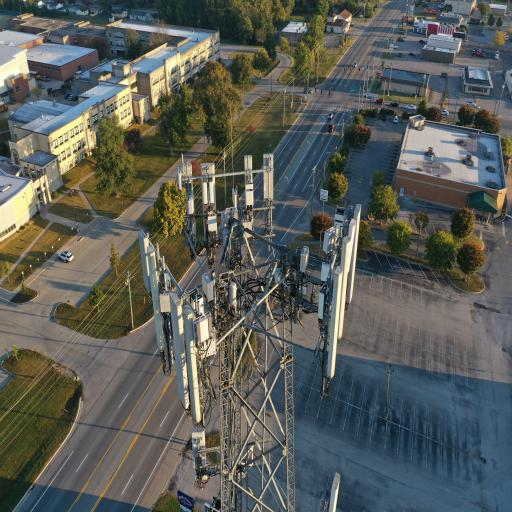supporting_tower: (138, 151, 362, 512)
